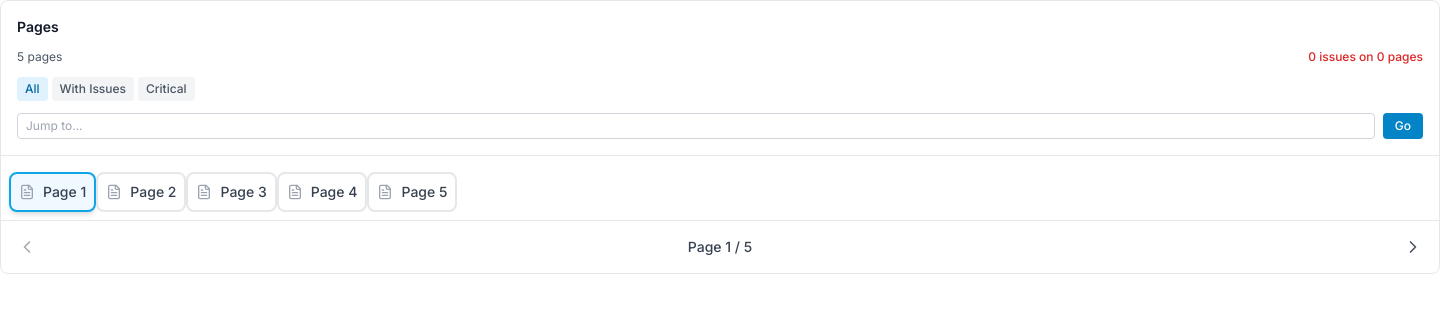
PdfPageNavigator › Filtering › shows message when no pages match filter
Click the button "With Issues" at (93, 89), box [52,77,134,101]
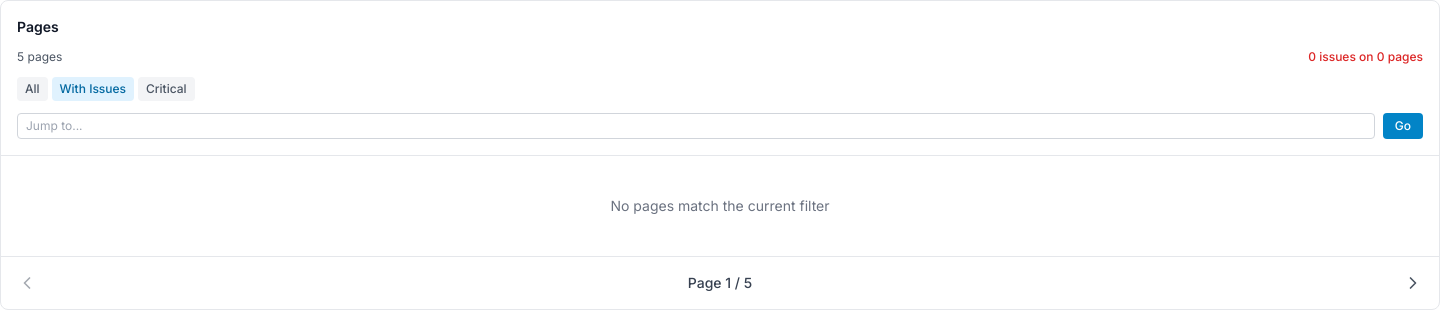
Result: the text "No pages match the current filter" is shown at [610,197,830,214]
